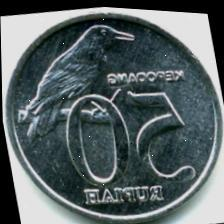coin_50_1999: (5, 11, 217, 221)
